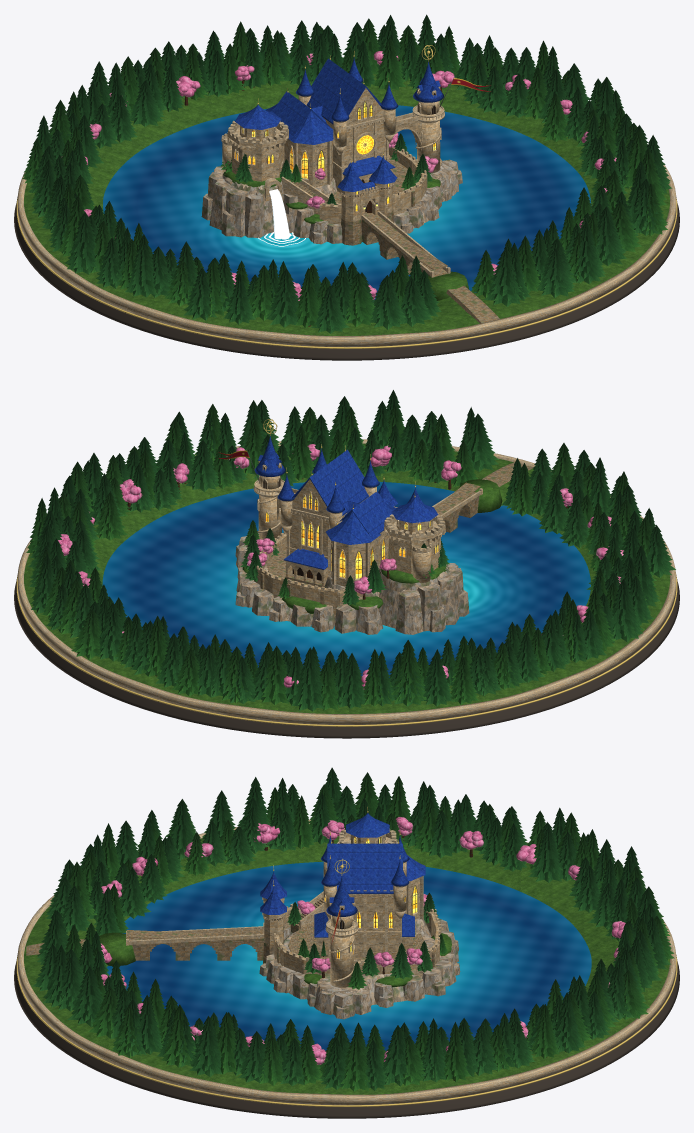
Rendered from schloss_aurelia_ar.glb.
The picture shows the model from 3 angles, top to bottom: view 1: azimuth 30°, elevation 25°; view 2: azimuth 150°, elevation 25°; view 3: azimuth 270°, elevation 25°; orthographic projection.
Parts seen in each view (by area): view 1: Castle_Diorama_MoatWater, Castle_Diorama_ForestMeadow, Castle_Diorama_StoneCoping, Castle_Diorama_BronzePlinth, Castle_Keep_MainRoof, Castle_Diorama_BrassFillet, Castle_Causeway_BridgeDeck, Castle_Island_LimestoneCliffs, Castle_ShorePineR2_062, Castle_ShorePineR2_091, Castle_WestBastion_MainDrum, Castle_ShorePineR2_077 (+73 smaller); view 2: Castle_Diorama_MoatWater, Castle_Diorama_ForestMeadow, Castle_Diorama_StoneCoping, Castle_Diorama_BronzePlinth, Castle_Keep_MainRoof, Castle_Diorama_BrassFillet, Castle_Island_LimestoneCliffs, Castle_CurtainWall_MainRing, Castle_ShorePineR2_038, Castle_ShorePineR2_062, Castle_ShorePineR2_045, Castle_ShorePineR2_091 (+74 smaller); view 3: Castle_Diorama_MoatWater, Castle_Diorama_ForestMeadow, Castle_Diorama_StoneCoping, Castle_Diorama_BronzePlinth, Castle_Keep_MainRoof, Castle_Keep_MainBody, Castle_Diorama_BrassFillet, Castle_Causeway_BridgeDeck, Castle_Island_LimestoneCliffs, Castle_CurtainWall_MainRing, Castle_ShorePineR2_110, Castle_ShorePineR2_100 (+65 smaller).
Part boxes in pixels (x1,y1,x2,y2): Castle_Diorama_MoatWater: [103, 105, 591, 299]; Castle_Diorama_ForestMeadow: [24, 74, 669, 335]; Castle_Diorama_StoneCoping: [17, 165, 676, 347]; Castle_Diorama_BronzePlinth: [14, 197, 679, 360]; Castle_Keep_MainRoof: [307, 58, 383, 124]; Castle_Diorama_BrassFillet: [16, 198, 677, 348]; Castle_Causeway_BridgeDeck: [361, 214, 447, 276]; Castle_Island_LimestoneCliffs: [222, 161, 456, 235]; Castle_ShorePineR2_062: [64, 212, 100, 274]; Castle_ShorePineR2_091: [484, 248, 526, 306]; Castle_WestBastion_MainDrum: [231, 143, 284, 181]; Castle_ShorePineR2_077: [266, 268, 299, 327]; Castle_Diorama_MoatWater: [102, 481, 590, 677]; Castle_Diorama_ForestMeadow: [24, 443, 669, 713]; Castle_Diorama_StoneCoping: [17, 439, 676, 724]; Castle_Diorama_BronzePlinth: [14, 577, 679, 738]; Castle_Keep_MainRoof: [292, 449, 368, 515]; Castle_Diorama_BrassFillet: [16, 576, 677, 726]; Castle_Island_LimestoneCliffs: [246, 545, 449, 628]; Castle_CurtainWall_MainRing: [254, 534, 363, 617]; Castle_ShorePineR2_038: [291, 647, 328, 711]; Castle_ShorePineR2_062: [611, 579, 643, 642]; Castle_ShorePineR2_045: [391, 642, 426, 705]; Castle_ShorePineR2_091: [465, 413, 498, 471]; Castle_Diorama_MoatWater: [106, 861, 591, 1051]; Castle_Diorama_ForestMeadow: [24, 836, 669, 1094]; Castle_Diorama_StoneCoping: [17, 819, 676, 1105]; Castle_Diorama_BronzePlinth: [14, 955, 679, 1118]; Castle_Keep_MainRoof: [327, 843, 402, 893]; Castle_Keep_MainBody: [329, 895, 400, 957]; Castle_Diorama_BrassFillet: [16, 956, 677, 1106]; Castle_Causeway_BridgeDeck: [126, 930, 264, 960]; Castle_Island_LimestoneCliffs: [273, 918, 440, 1014]; Castle_CurtainWall_MainRing: [273, 910, 441, 978]; Castle_ShorePineR2_110: [189, 1016, 222, 1077]; Castle_ShorePineR2_100: [67, 966, 103, 1026].
Size of the model in its own units: 0.9156 by 0.2384 by 0.9156.
Materials: 25 (18 with a texture image).
